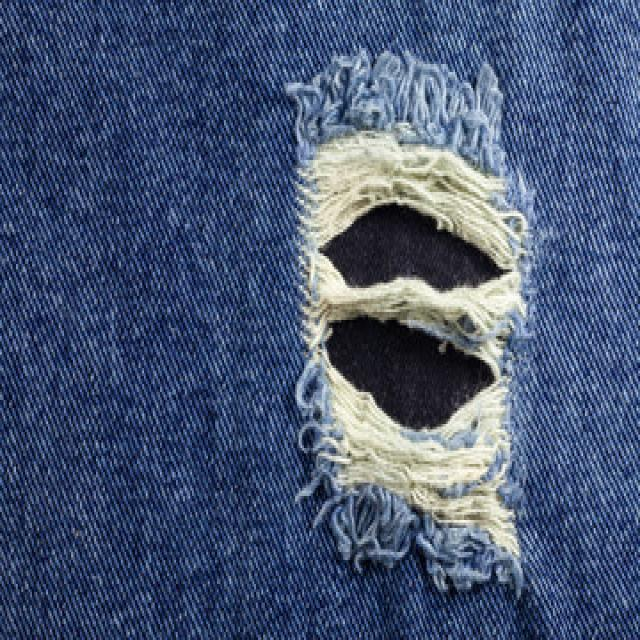Hole: (287, 51, 532, 598)
